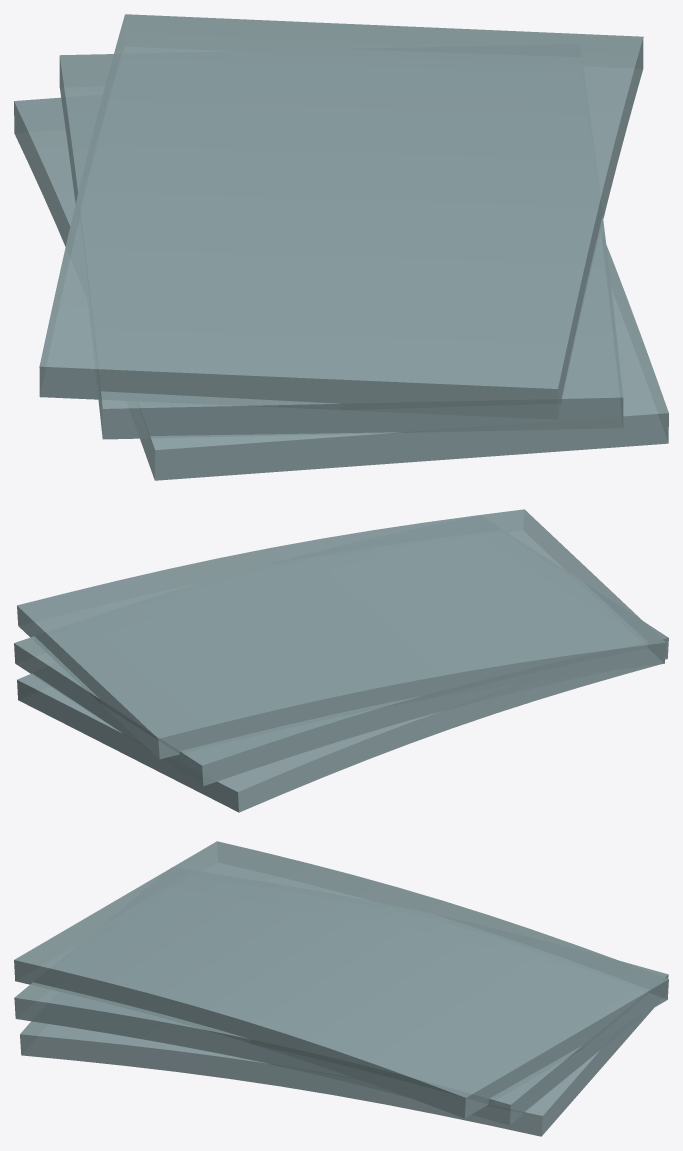
File: MetalSheets.fbx
The picture shows the model from 3 angles, top to bottom: view 1: azimuth 30°, elevation 25°; view 2: azimuth 150°, elevation 25°; view 3: azimuth 270°, elevation 25°; orthographic projection. The views are drawn at different scales.
Visible parts, largest first — view 1: P_Glass2, P_Glass1, P_Glass; view 2: P_Glass2, P_Glass1, P_Glass; view 3: P_Glass2, P_Glass1, P_Glass.
Part boxes in pixels (x1,y1,x2,y2): P_Glass2: (39,14,643,419); P_Glass1: (59,49,623,439); P_Glass: (14,97,668,480); P_Glass2: (17,509,665,759); P_Glass1: (14,530,668,786); P_Glass: (17,663,659,812); P_Glass2: (14,841,668,1118); P_Glass1: (14,867,668,1125); P_Glass: (20,992,653,1136).
Size of the model in its own units: 13.14 by 1.61 by 14.17.
